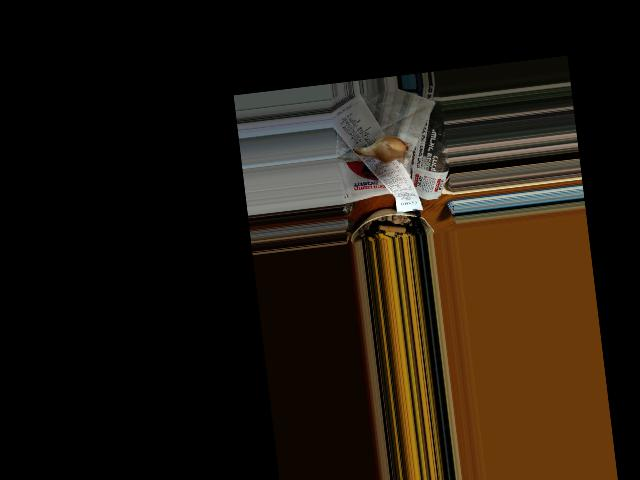onion: (364, 135, 412, 165)
